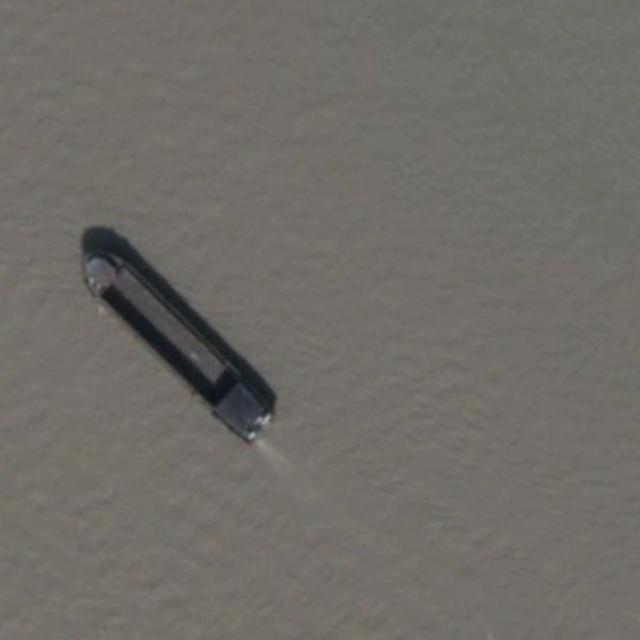ship: (77, 244, 278, 443)
